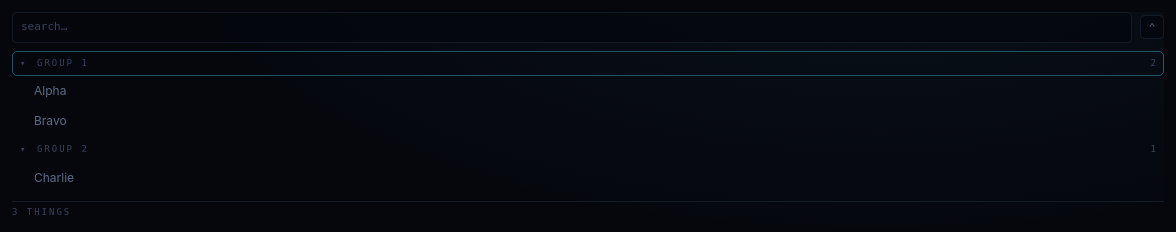
Test: BrowserShell collapse-all (design §8.1) › offers a collapse-all button that folds every group
Expected: the text "Alpha" is shown, [34,83,66,98]
Click the button "⌃". click: (1152, 27)
box: [1140,15,1164,39]
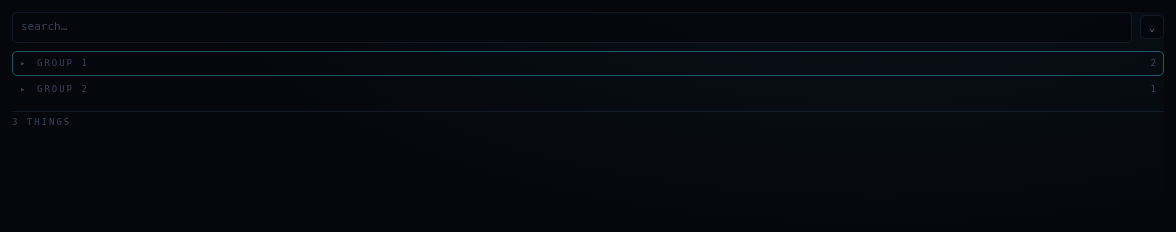
Expected: the text "Alpha" is gone
Expected: the text "Charlie" is gone
